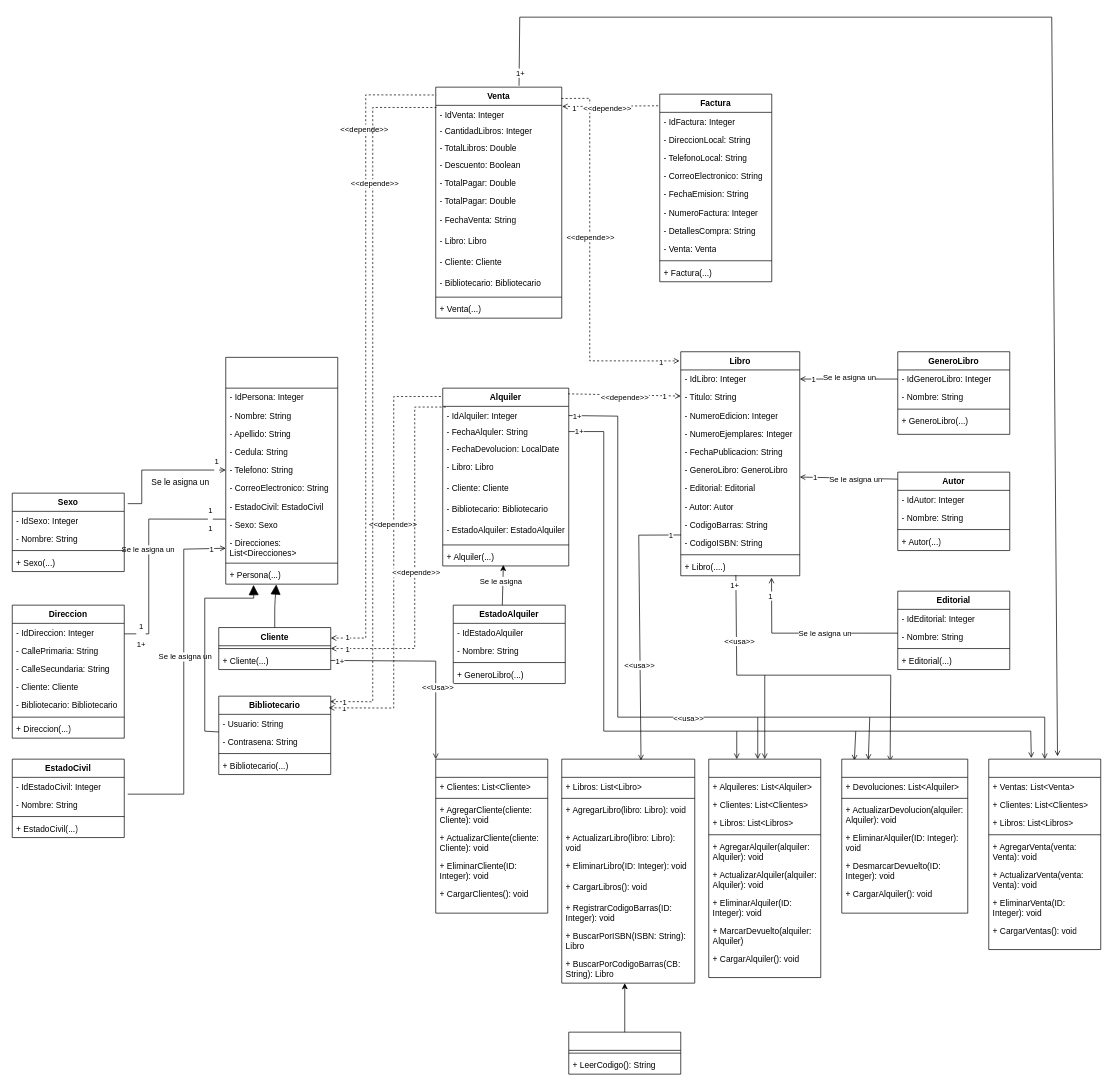
The diagram is 1113 pixels wide and 1089 high, and some of its shapes have lost their labels. Each missing label, with the box of its shape:
<<abstract>> Persona: (225, 357, 338, 584)
GestorAlquiler: (708, 758, 821, 978)
GestorClientes: (435, 758, 548, 913)
GestorDevolucion: (841, 758, 968, 913)
GestorLibro: (561, 758, 695, 983)
GestorVenta: (988, 758, 1101, 950)
LectorBarras: (568, 1031, 681, 1074)
